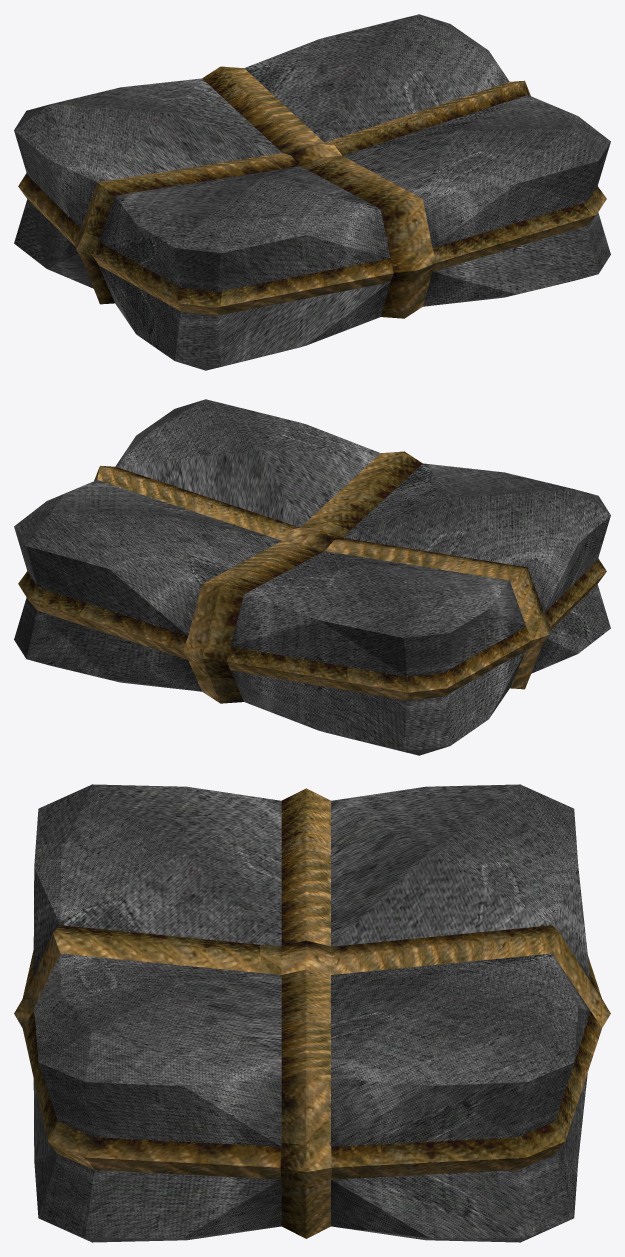
File: KM_ITMI_PACKET_06.glb
3 views of the same model, one above another, from view 1: azimuth 30°, elevation 25°; view 2: azimuth 150°, elevation 25°; view 3: azimuth 270°, elevation 25° (orthographic). The views are drawn at different scales.
Visible parts, largest first — view 1: KM_ITMI_PACKET_06; view 2: KM_ITMI_PACKET_06; view 3: KM_ITMI_PACKET_06.
Part boxes in pixels (x1=…): KM_ITMI_PACKET_06: x1=14, y1=14, x2=610, y2=370; KM_ITMI_PACKET_06: x1=14, y1=399, x2=610, y2=755; KM_ITMI_PACKET_06: x1=14, y1=784, x2=610, y2=1242.
Bounding box in the file's own units: 0.4578 × 0.1414 × 0.364.
Materials: 2 (2 with a texture image).
